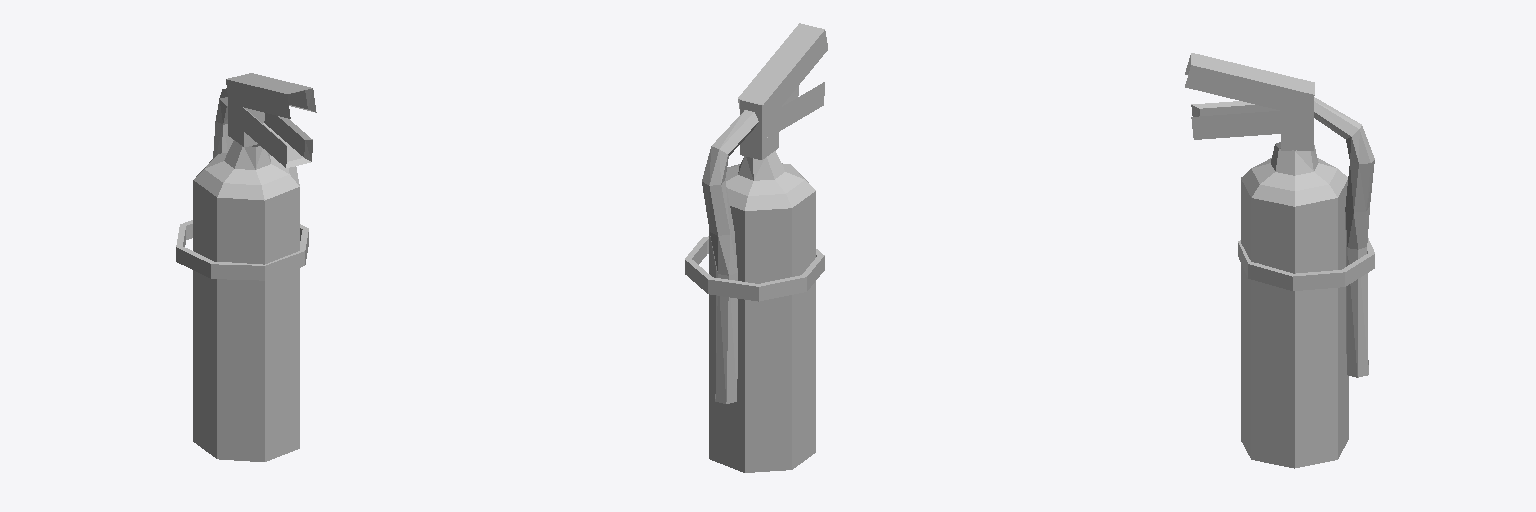
The model's file is fireextinguisher.obj.
The picture shows the model from 3 angles: view 1: azimuth 30°, elevation 25°; view 2: azimuth 150°, elevation 25°; view 3: azimuth 270°, elevation 25°; orthographic projection.
Parts seen in each view (by area): view 1: pSphere1, pPipe1, polySurface1 pCube14, pCube14 polySurface2, pCylinder25, pCube14 polySurface3; view 2: pSphere1, pCylinder25, polySurface1 pCube14, pPipe1, pCube14 polySurface2, pCube14 polySurface3; view 3: pSphere1, pCylinder25, polySurface1 pCube14, pCube14 polySurface2, pPipe1, pCube14 polySurface3.
Part boxes in pixels (bbox=[...]): pSphere1: bbox=[193, 140, 299, 461]; pPipe1: bbox=[176, 220, 308, 280]; polySurface1 pCube14: bbox=[226, 73, 316, 118]; pCube14 polySurface2: bbox=[230, 101, 312, 167]; pCylinder25: bbox=[213, 88, 233, 157]; pCube14 polySurface3: bbox=[228, 100, 264, 147]; pSphere1: bbox=[709, 151, 815, 472]; pCylinder25: bbox=[702, 110, 758, 403]; polySurface1 pCube14: bbox=[738, 23, 827, 123]; pPipe1: bbox=[685, 236, 824, 301]; pCube14 polySurface2: bbox=[767, 82, 824, 137]; pCube14 polySurface3: bbox=[740, 99, 778, 159]; pSphere1: bbox=[1241, 142, 1348, 468]; pCylinder25: bbox=[1314, 97, 1374, 377]; polySurface1 pCube14: bbox=[1185, 53, 1314, 116]; pCube14 polySurface2: bbox=[1191, 101, 1305, 139]; pPipe1: bbox=[1238, 238, 1374, 290]; pCube14 polySurface3: bbox=[1281, 100, 1313, 150].
Bounding box in the file's own units: 2.71 × 8.59 × 3.77.